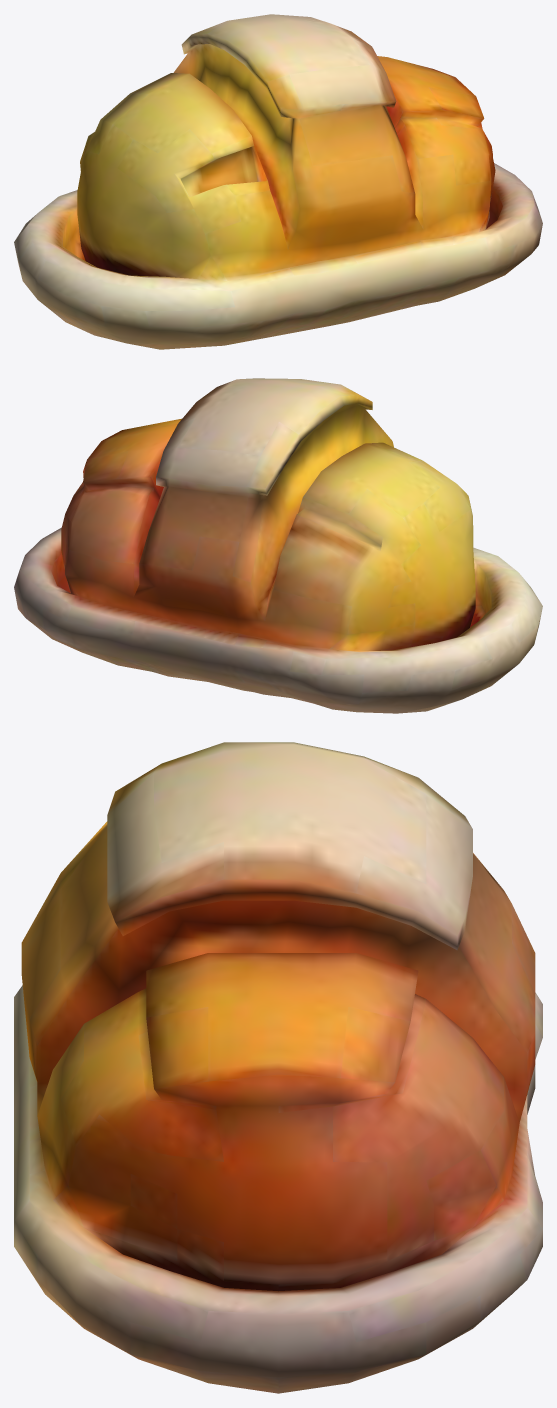
The model's file is puff-pastry.glb.
The picture shows the model from 3 angles, top to bottom: view 1: azimuth 30°, elevation 25°; view 2: azimuth 150°, elevation 25°; view 3: azimuth 270°, elevation 25°; orthographic projection. The views are drawn at different scales.
Parts seen in each view (by area): view 1: Puff Pastry; view 2: Puff Pastry; view 3: Puff Pastry.
Boxes of the visible parts, left/top/right/bottom form: Puff Pastry: left=14, top=14, right=542, bottom=349; Puff Pastry: left=14, top=378, right=542, bottom=713; Puff Pastry: left=14, top=742, right=542, bottom=1393.
Bounding box in the file's own units: 1.88 × 1.1 × 1.05.
Materials: 1 (1 with a texture image).
